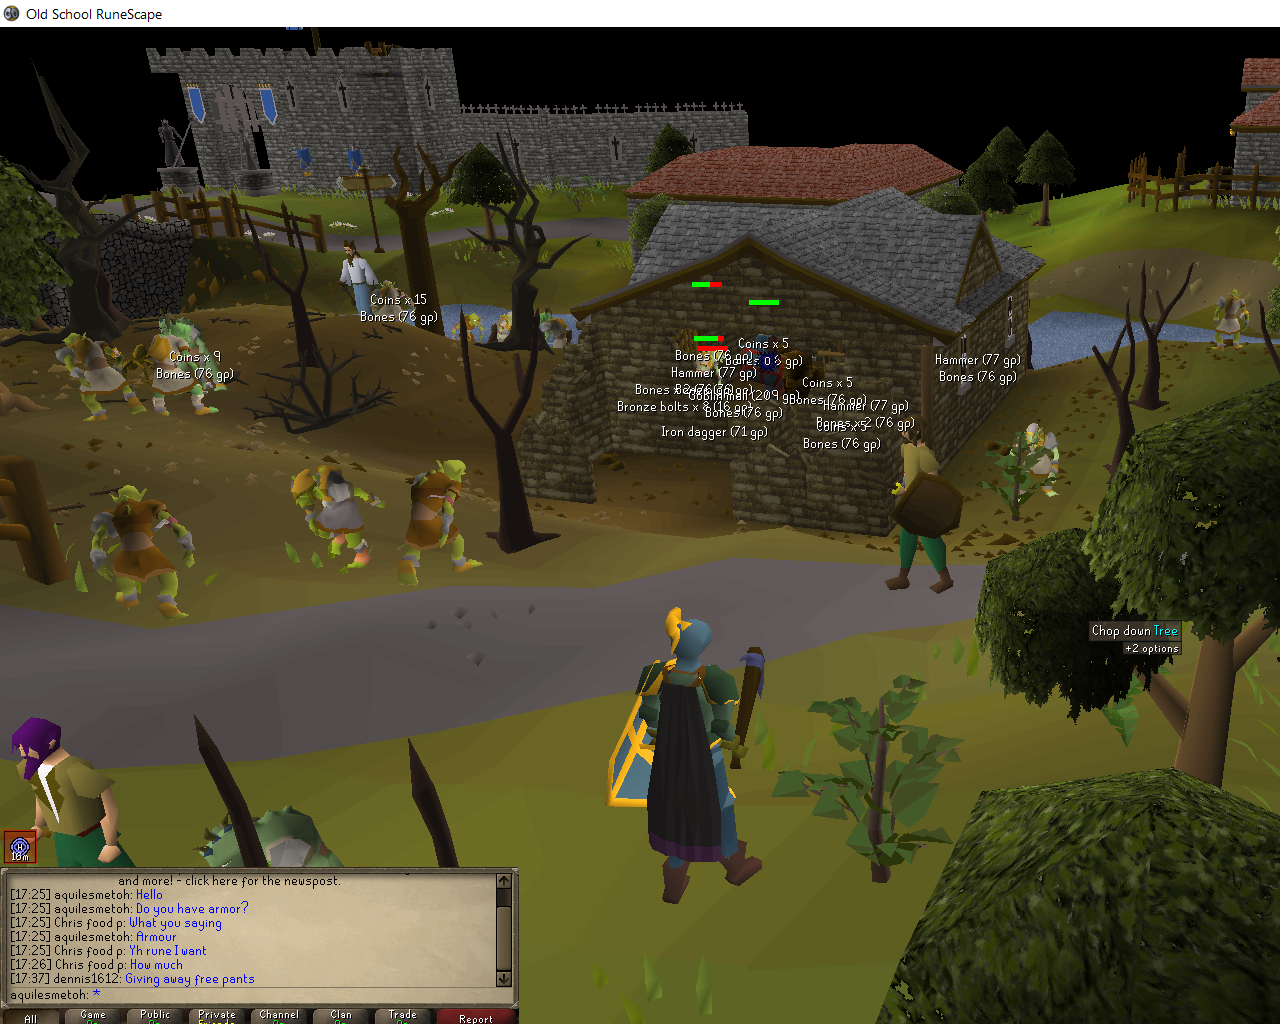Goblin: (87, 482, 199, 622), (281, 459, 389, 574), (399, 456, 481, 586), (191, 808, 348, 868), (52, 329, 150, 423), (139, 321, 222, 417), (1005, 418, 1066, 501), (1209, 284, 1252, 352), (372, 279, 411, 323), (536, 309, 574, 351), (490, 309, 525, 349), (452, 310, 487, 344)
